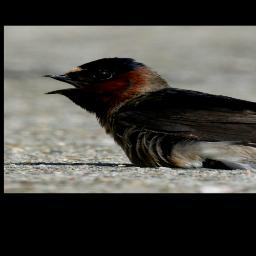Swallow: (39, 57, 256, 172)
